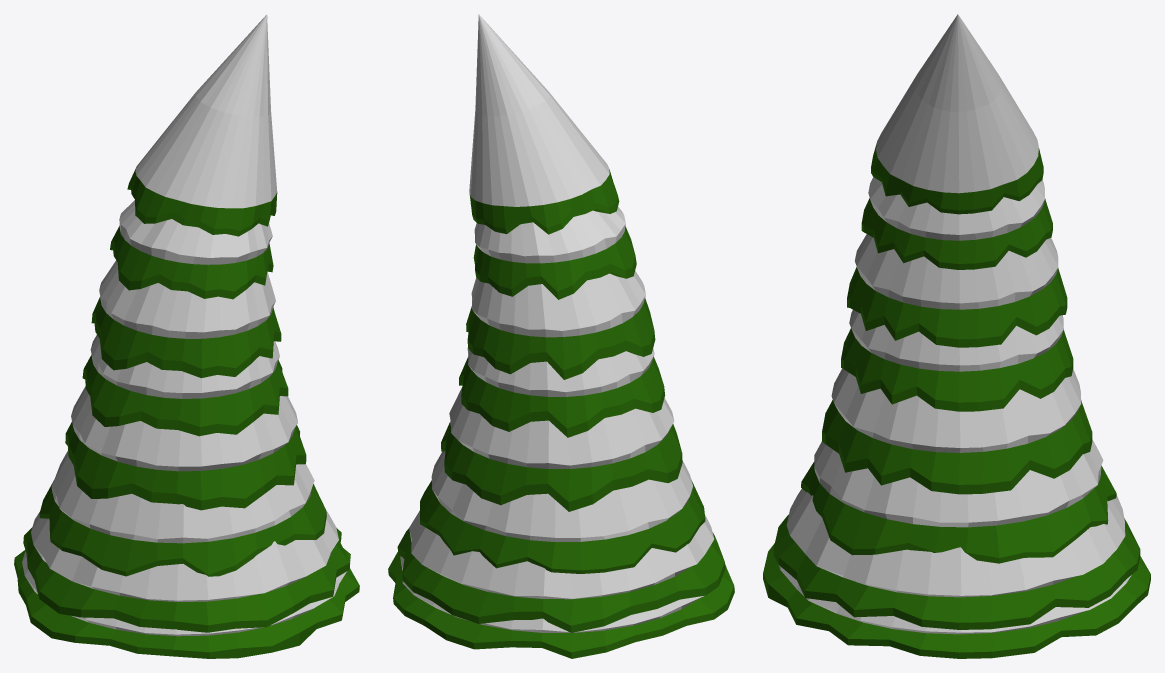
Rendered from snowyTree2.fbx.
3 renders of one model, left to right at view 1: azimuth 30°, elevation 25°; view 2: azimuth 150°, elevation 25°; view 3: azimuth 270°, elevation 25°, orthographic. The views are drawn at different scales.
Parts seen in each view (by area): view 1: SnowyTree2; view 2: SnowyTree2; view 3: SnowyTree2.
Part boxes in pixels (x1,y1,x2,y2): SnowyTree2: (14, 14, 359, 658); SnowyTree2: (388, 14, 734, 658); SnowyTree2: (763, 14, 1150, 658).
Bounding box in the file's own units: 4.97 × 9.3 × 4.95.
